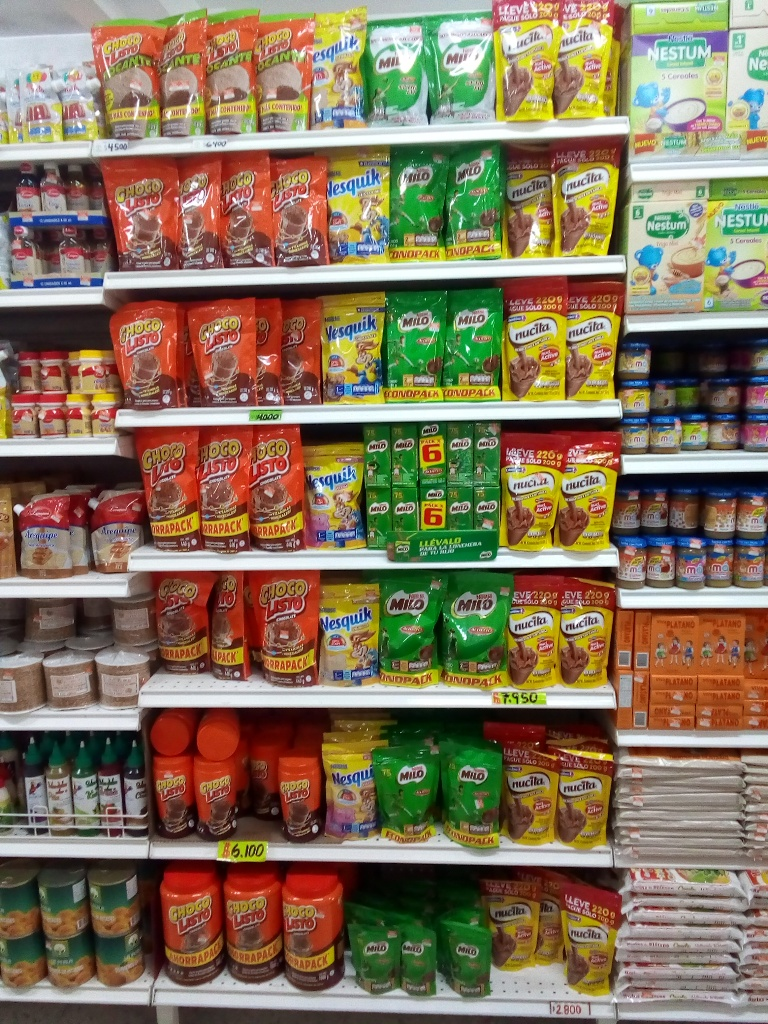COL0170103DYP20000: (265, 151, 334, 267)
COL0170103DYP44000: (248, 568, 323, 689)
COL0170103TRR00100: (279, 862, 351, 993)
COL0170103TRR30000: (275, 748, 327, 840)
COL0170203DYP10000: (442, 920, 495, 999)
COL0170203DYP25000: (443, 287, 505, 404)
COL0170203DYP50000: (371, 574, 449, 687)
COL0170205DYP20000: (420, 10, 495, 126)
COL0170303DYP20000: (314, 288, 386, 402)
COL0170305DYP20000: (319, 740, 381, 841)
COL0170306DYP20000: (308, 10, 369, 129)
